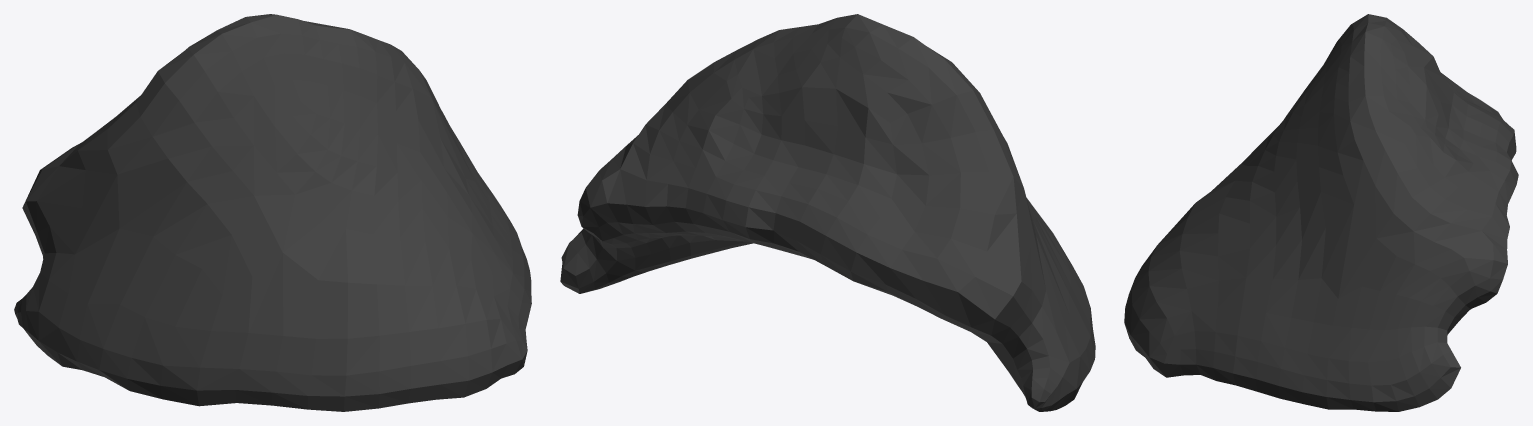
File: FHL_P3.glb
The picture shows the model from 3 angles, left to right: view 1: azimuth 30°, elevation 25°; view 2: azimuth 150°, elevation 25°; view 3: azimuth 270°, elevation 25°; orthographic projection. The views are drawn at different scales.
Parts seen in each view (by area): view 1: FHL_P3; view 2: FHL_P3; view 3: FHL_P3.
Part boxes in pixels (x1,y1,x2,y2): FHL_P3: (14,14,531,411); FHL_P3: (560,14,1095,411); FHL_P3: (1124,14,1518,411).
Size of the model in its own units: 13.64 by 8.78 by 10.85.
1 material, 1 textured.
